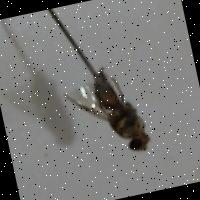Oriental-fruit-fly: (52, 49, 163, 172)
